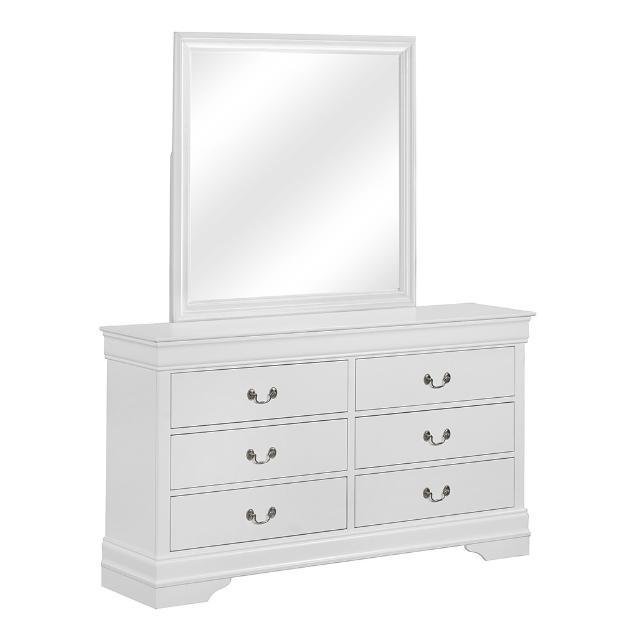dresser: (96, 9, 546, 618)
